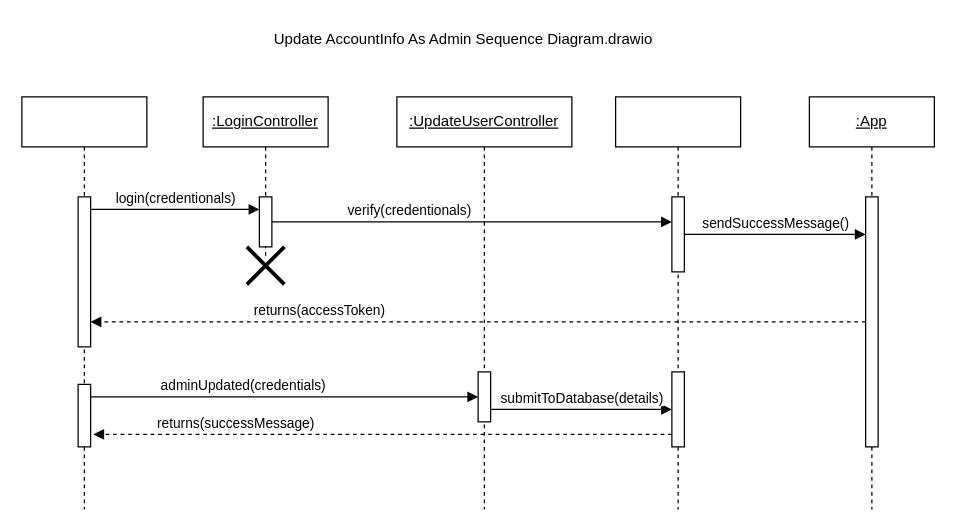
Some shapes in this 956 by 531 pixel diagram are drawn without their labels. Each missing label, with the box of its shape:
:Amin: (21, 96, 147, 509)
:Database: (614, 96, 741, 509)
